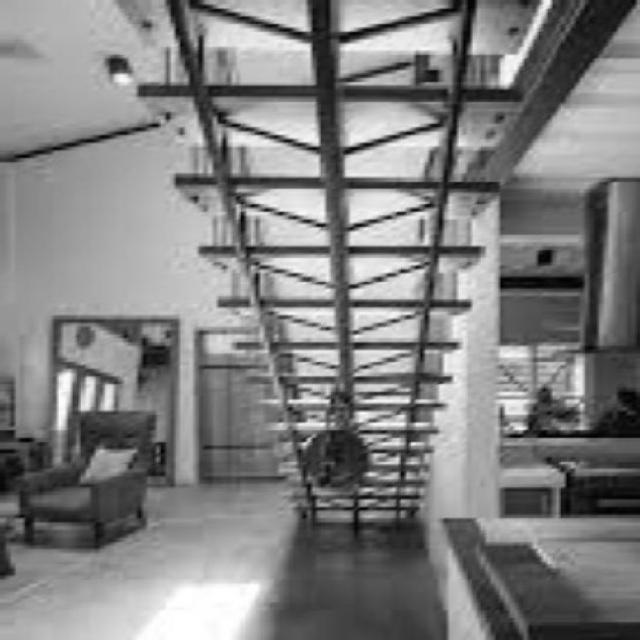stair: (0, 3, 639, 640)
